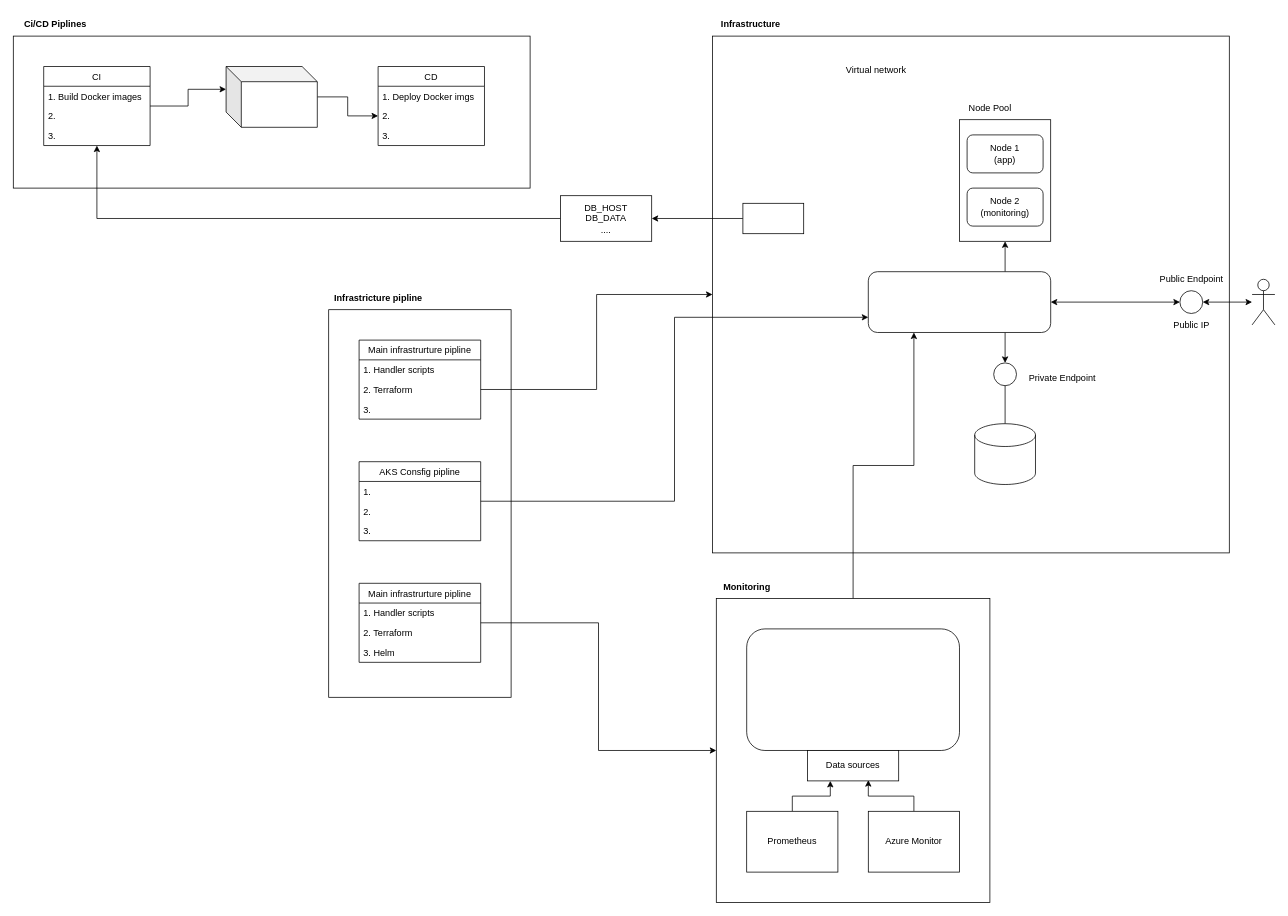
This 1288x916 diagram has some shape labels left out. The centre of each missing label's shape, as x and y in pixels:
AKS: (959,301)
Azure Artifacts: (271,96)
Azure DB: (1005,453)
Grafana: (853,689)
Key Valut (some secret): (773,218)
User: (1263,302)
